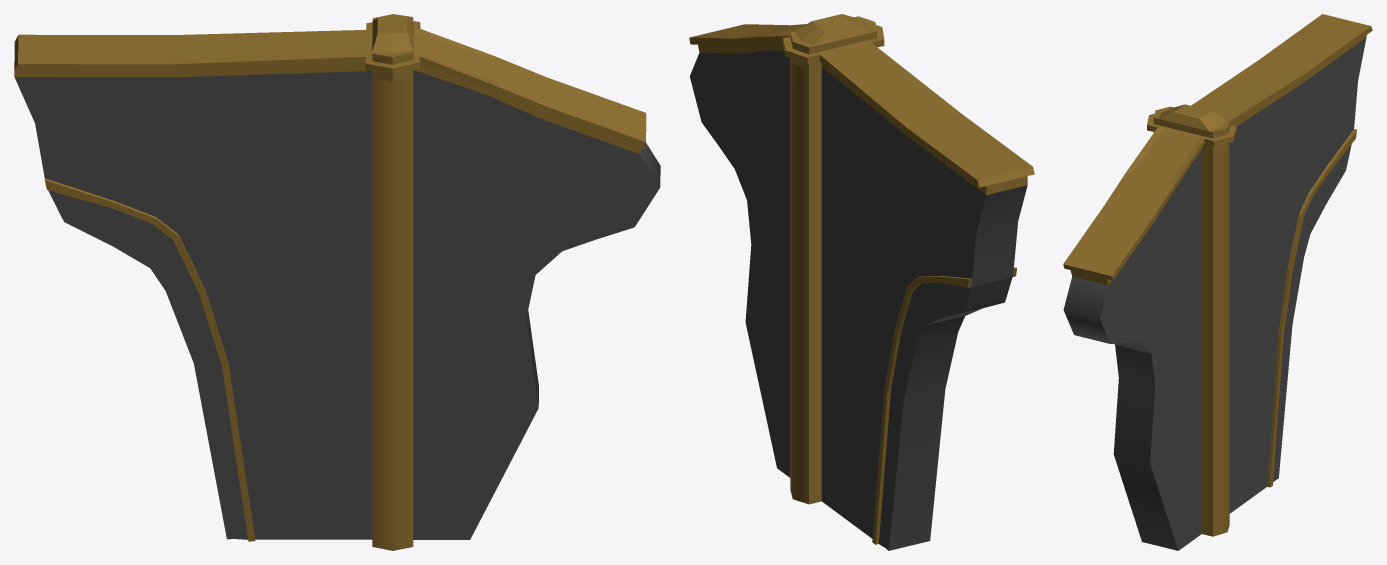
File: Ruin_1.FBX
3 renders of one model, left to right at view 1: azimuth 30°, elevation 25°; view 2: azimuth 150°, elevation 25°; view 3: azimuth 270°, elevation 25°, orthographic. The views are drawn at different scales.
Visible parts, largest first — view 1: Box033; view 2: Box033; view 3: Box033.
Part boxes in pixels (x1,y1,x2,y2): Box033: [14, 14, 660, 550]; Box033: [689, 14, 1034, 550]; Box033: [1063, 14, 1372, 550].
Bounding box in the file's own units: 369 × 349 × 237.
